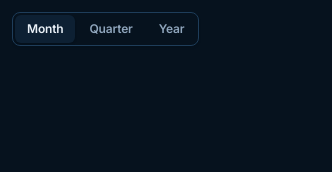
Test: ToggleGroup › emits the typed value and moves the selection on click
Click the radio button labelled "Year".
click(171, 29)  # box [147,15,196,43]
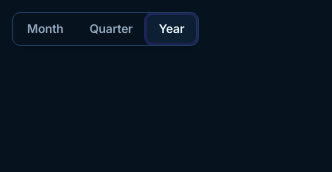
Expected: the radio button labelled "Year" is checked, [147,15,196,43]
Expected: the radio button labelled "Month" is not checked, [15,15,76,43]
